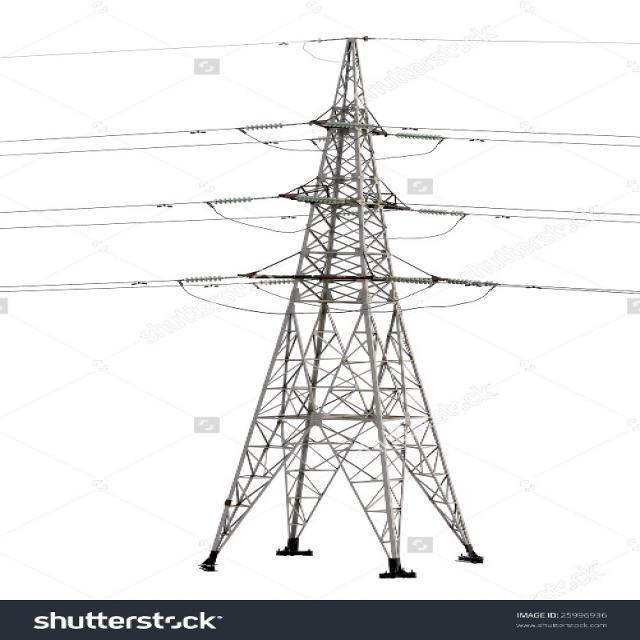non-critical vegetation: (209, 27, 486, 582)
